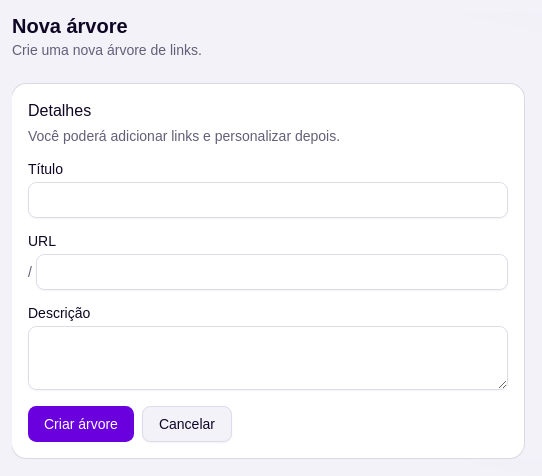
Test: PageNewPage › gera a URL automaticamente a partir do titulo
This screenshot has width=542, height=476.
Type "Minha Árvore Ação" into the field labelled "Título" at (268, 200), box [28,182,508,218]
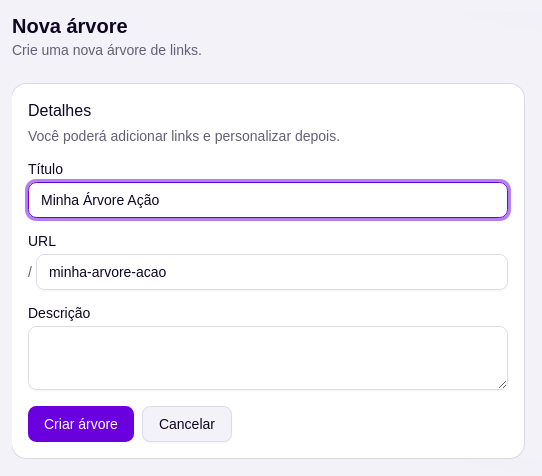
Check: the field labelled "URL" holds "minha-arvore-acao", box [36,254,508,290]
